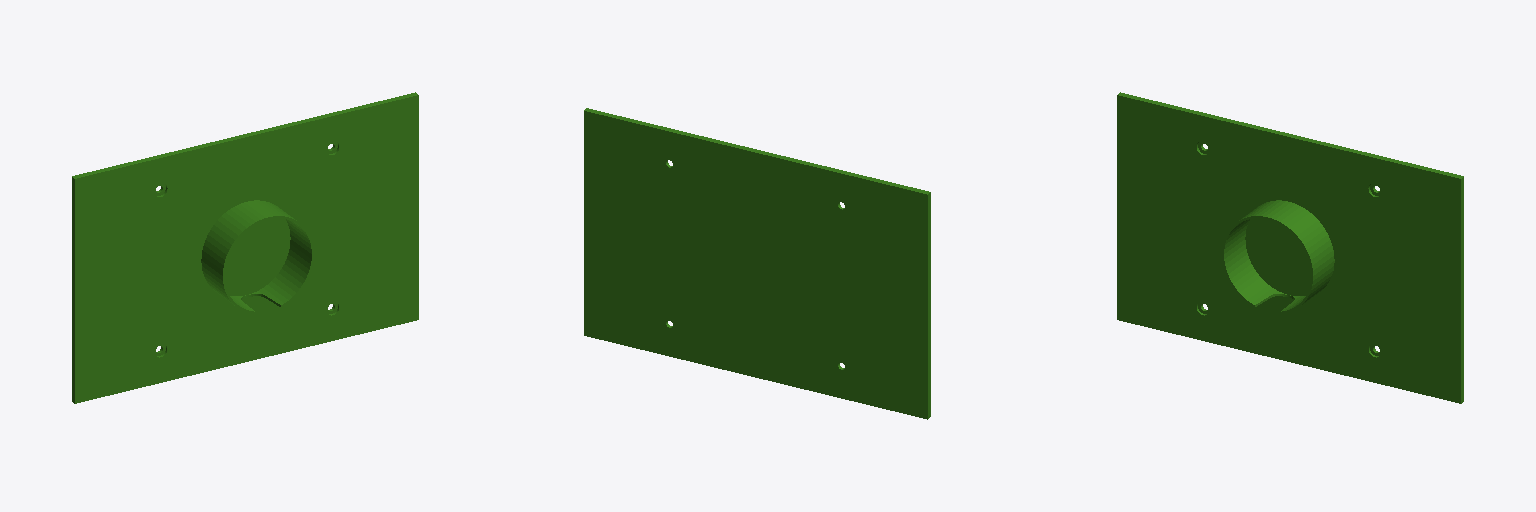
The model's file is cupholder_table.obj.
The picture shows the model from 3 angles: view 1: azimuth 30°, elevation 25°; view 2: azimuth 150°, elevation 25°; view 3: azimuth 330°, elevation 25°; orthographic projection.
Visible parts, largest first — view 1: mesh7, mesh0, mesh6, mesh1, mesh11, mesh10, mesh2; view 2: mesh21, mesh11, mesh10; view 3: mesh7, mesh0, mesh6, mesh1, mesh11, mesh8, mesh2.
Boxes of the visible parts, x1,y1,x2,y2 form: mesh7: [75, 95, 418, 403]; mesh0: [225, 218, 290, 295]; mesh6: [201, 200, 296, 305]; mesh1: [230, 219, 311, 311]; mesh11: [72, 92, 417, 178]; mesh10: [72, 177, 74, 403]; mesh2: [223, 216, 313, 313]; mesh21: [584, 111, 927, 419]; mesh11: [584, 108, 929, 194]; mesh10: [928, 192, 930, 418]; mesh7: [1117, 95, 1460, 403]; mesh0: [1245, 218, 1310, 295]; mesh6: [1239, 200, 1334, 305]; mesh1: [1224, 219, 1305, 311]; mesh11: [1118, 92, 1463, 178]; mesh8: [1461, 177, 1463, 403]; mesh2: [1222, 216, 1312, 313].
Size of the model in its own units: 0.34 by 0.2125 by 0.0425.